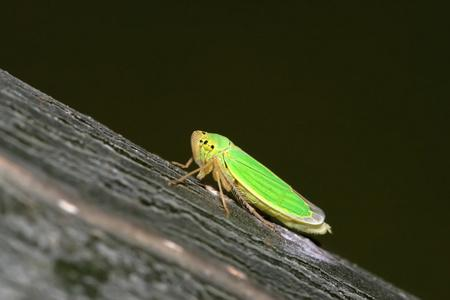Cicadellidae: (181, 129, 333, 235)
